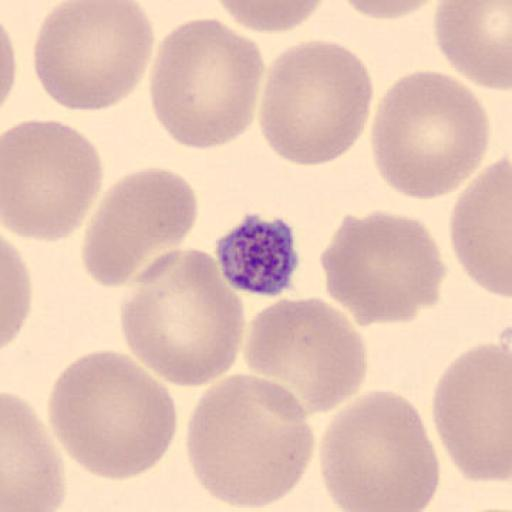Platelet: (214, 212, 302, 298)
RBC: (46, 347, 179, 482), (186, 373, 316, 511), (120, 245, 244, 388), (369, 68, 491, 202), (148, 17, 264, 152), (320, 208, 448, 328), (241, 294, 369, 414), (318, 388, 441, 512), (258, 38, 375, 168), (81, 166, 198, 288), (33, 0, 155, 113), (2, 117, 105, 244), (431, 342, 512, 486), (449, 158, 512, 298), (1, 390, 66, 512), (434, 1, 512, 91), (214, 0, 324, 35), (1, 236, 32, 350), (340, 0, 445, 21), (0, 2, 18, 108), (0, 19, 18, 104)
